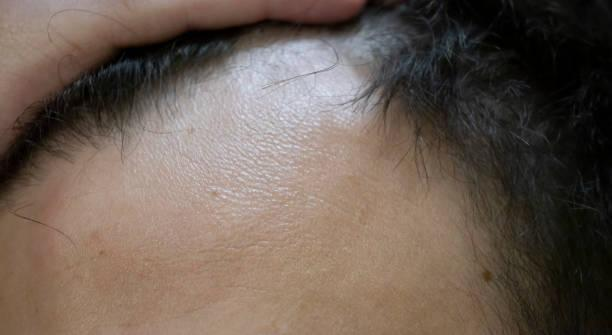low hair density: (454, 119, 538, 268)
